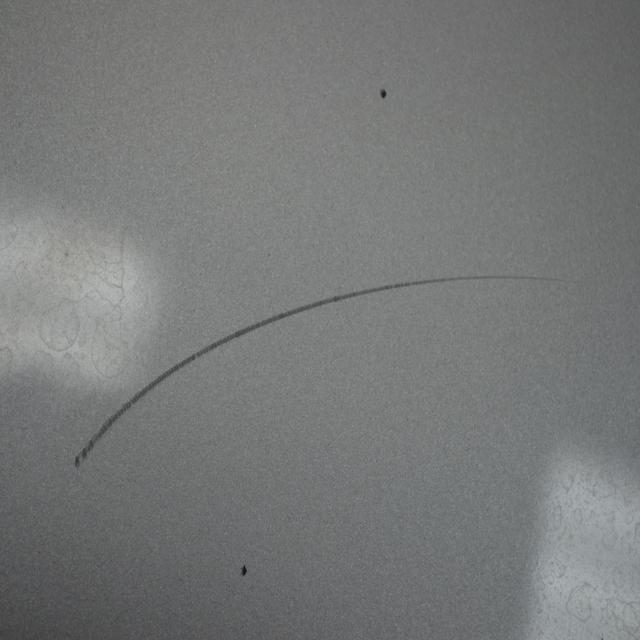dirt: (378, 82, 389, 101), (237, 564, 248, 576)
scratch: (69, 270, 565, 469)
water marks: (0, 216, 128, 380)
